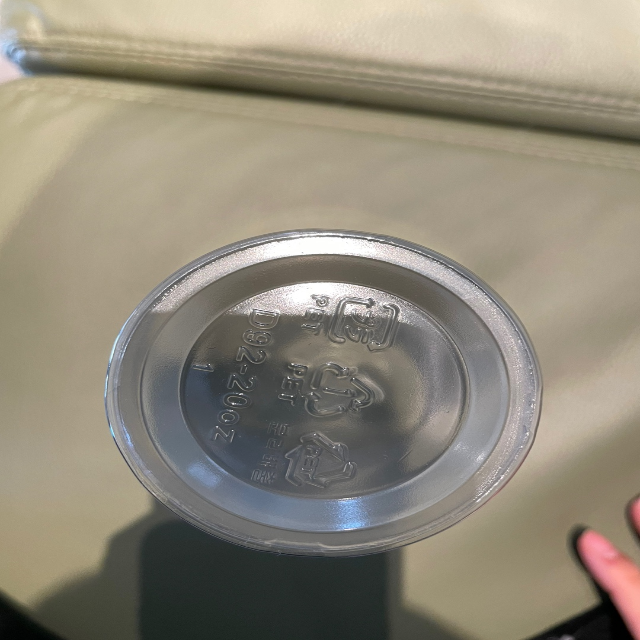pet: (252, 415, 362, 499), (300, 281, 403, 359), (277, 354, 387, 426)
